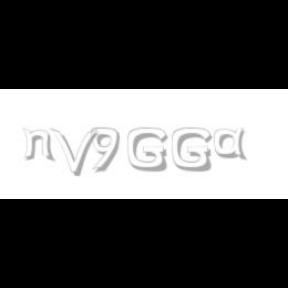9: (90, 128, 119, 172)
G: (127, 128, 167, 172), (172, 128, 212, 172)
V: (50, 128, 98, 176)
a: (215, 128, 252, 160)
n: (22, 128, 56, 162)
